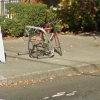Bicycle: (17, 15, 66, 58)
